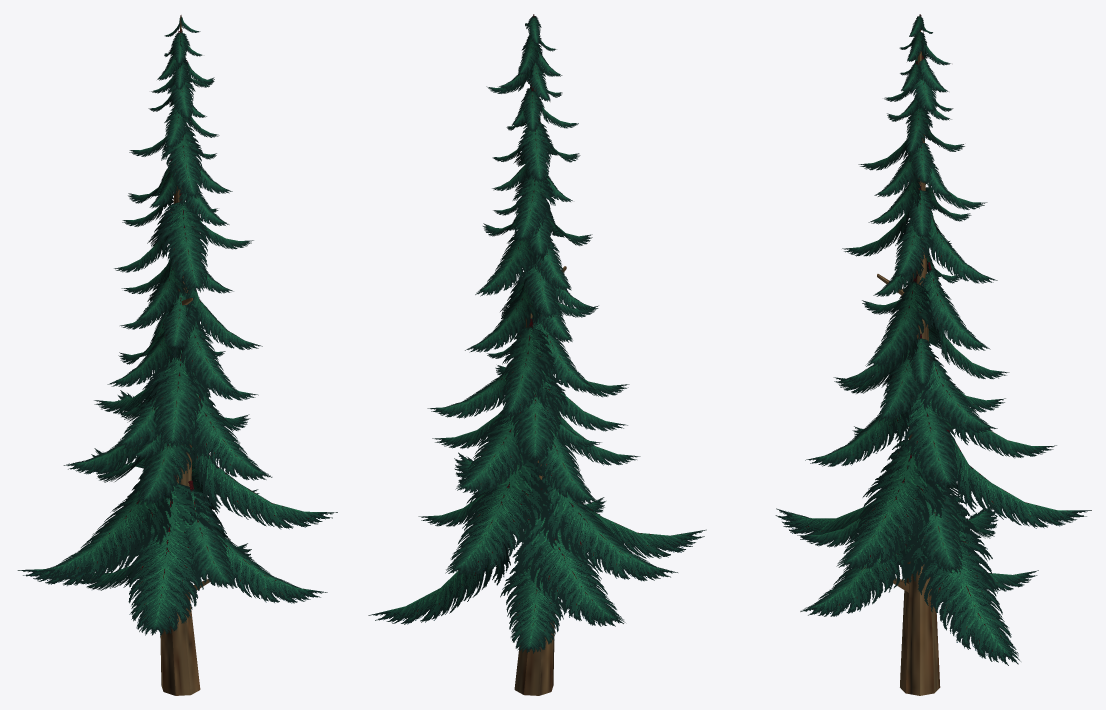
Rendered from Arvore1 1.fbx.
3 renders of one model, left to right at view 1: azimuth 30°, elevation 25°; view 2: azimuth 150°, elevation 25°; view 3: azimuth 270°, elevation 25°, orthographic.
Visible parts, largest first — view 1: polySurface10; view 2: polySurface10; view 3: polySurface10.
Boxes of the visible parts, x1,y1,x2,y2 form: polySurface10: [17, 15, 337, 695]; polySurface10: [368, 14, 706, 695]; polySurface10: [775, 14, 1091, 695].
Size of the model in its own units: 7.32 by 16.85 by 7.72.
Materials: 2 (2 with a texture image).
